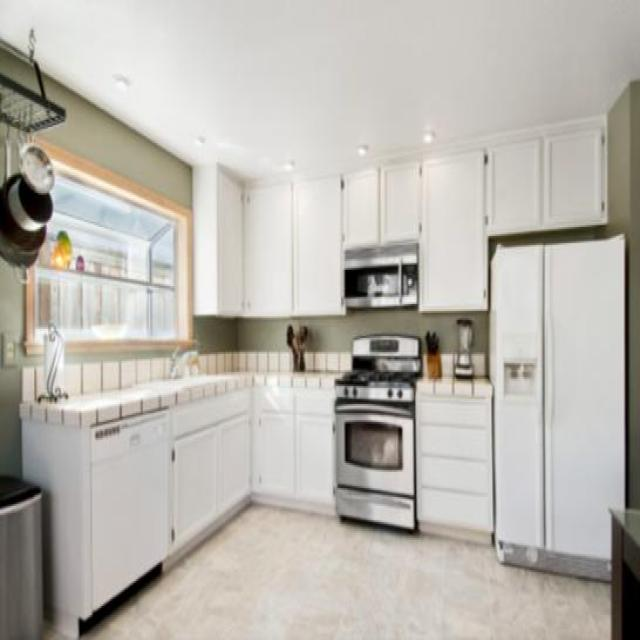dishwasher: (89, 404, 169, 606)
